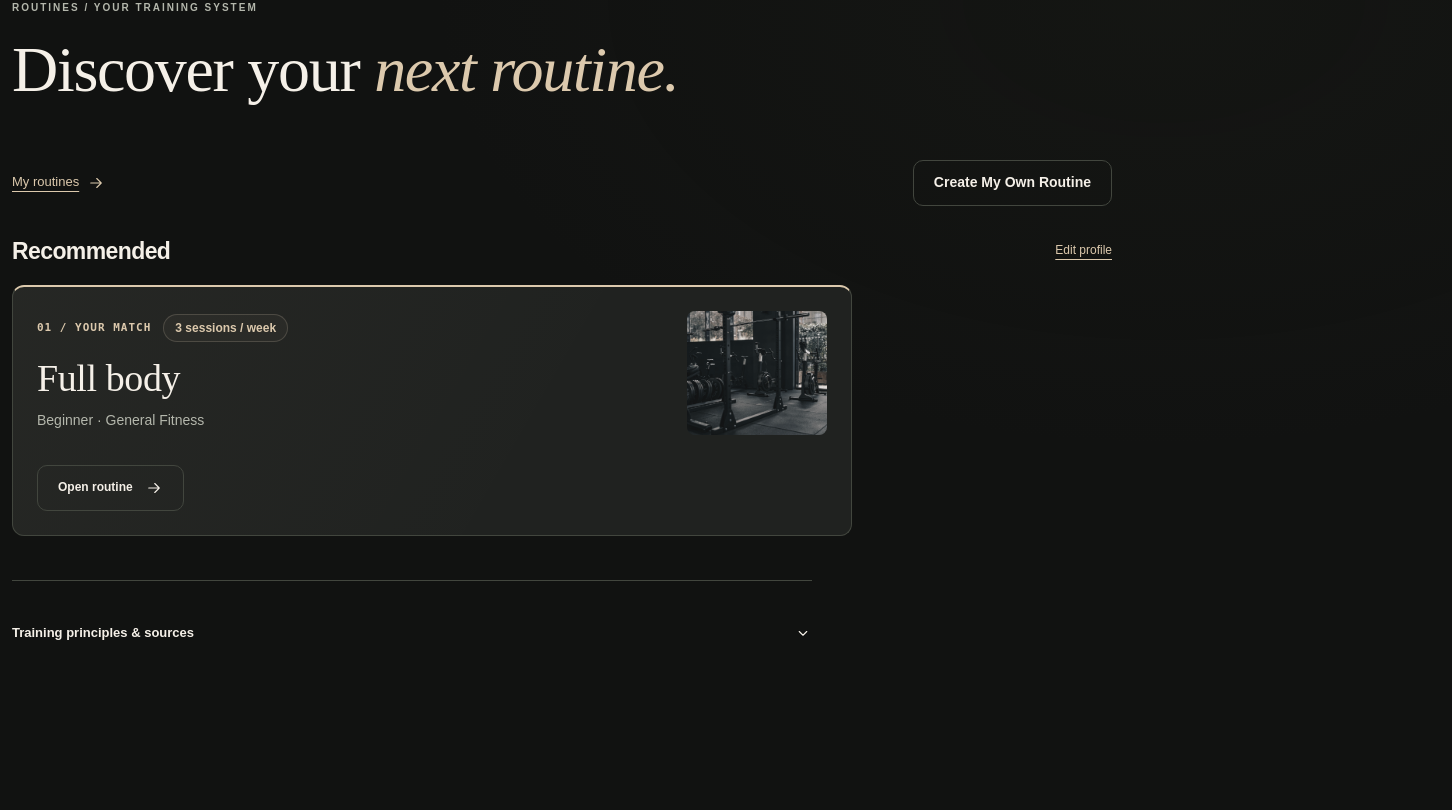
Use explicitly saves targets-unset plan, reloads and reports server-confirmed success
The width and height of the screenshot is (1452, 810).
Click the button "Open routine".
click(110, 488)  # box [37,465,184,511]
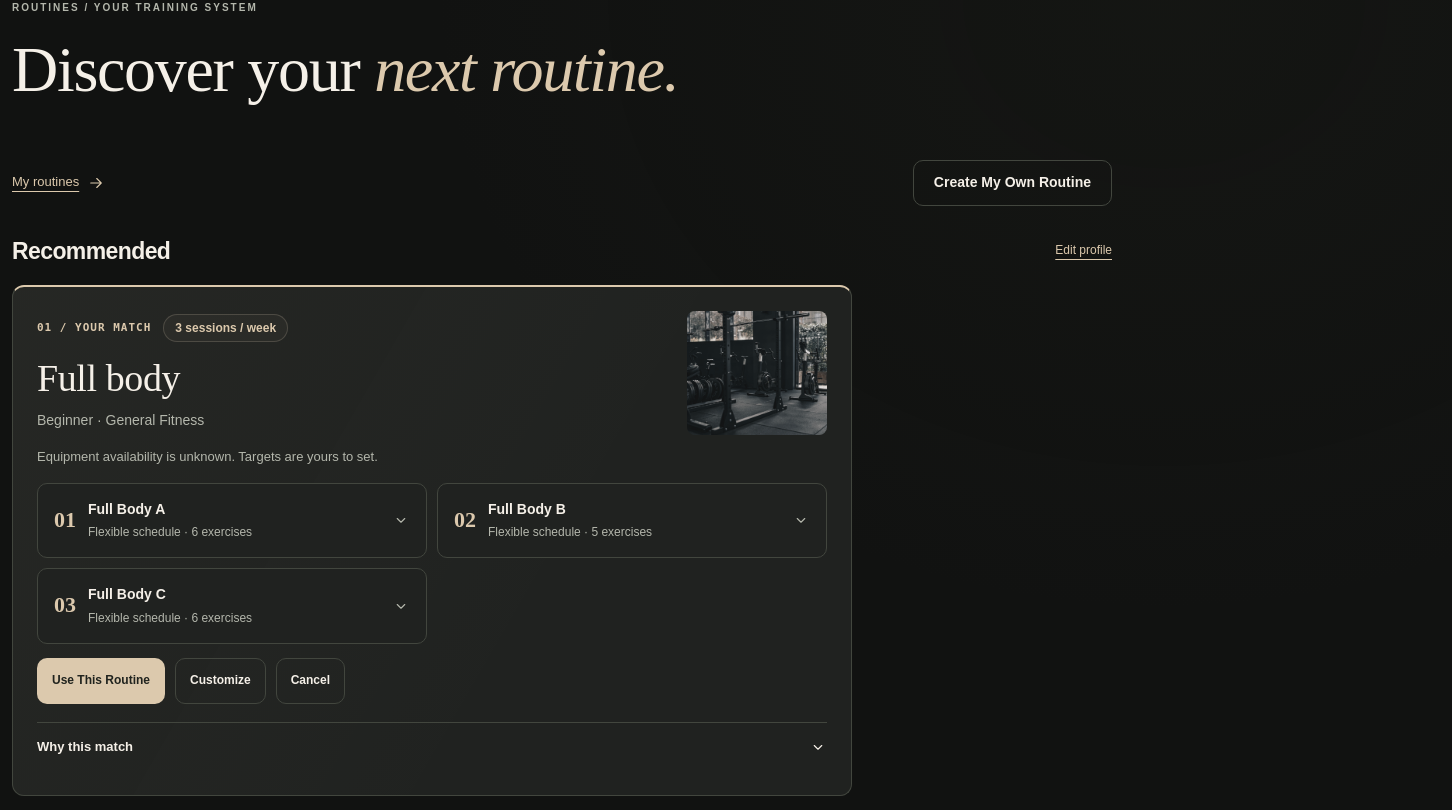
Click the button "Use This Routine".
click(101, 681)  # box [37,658,165,704]
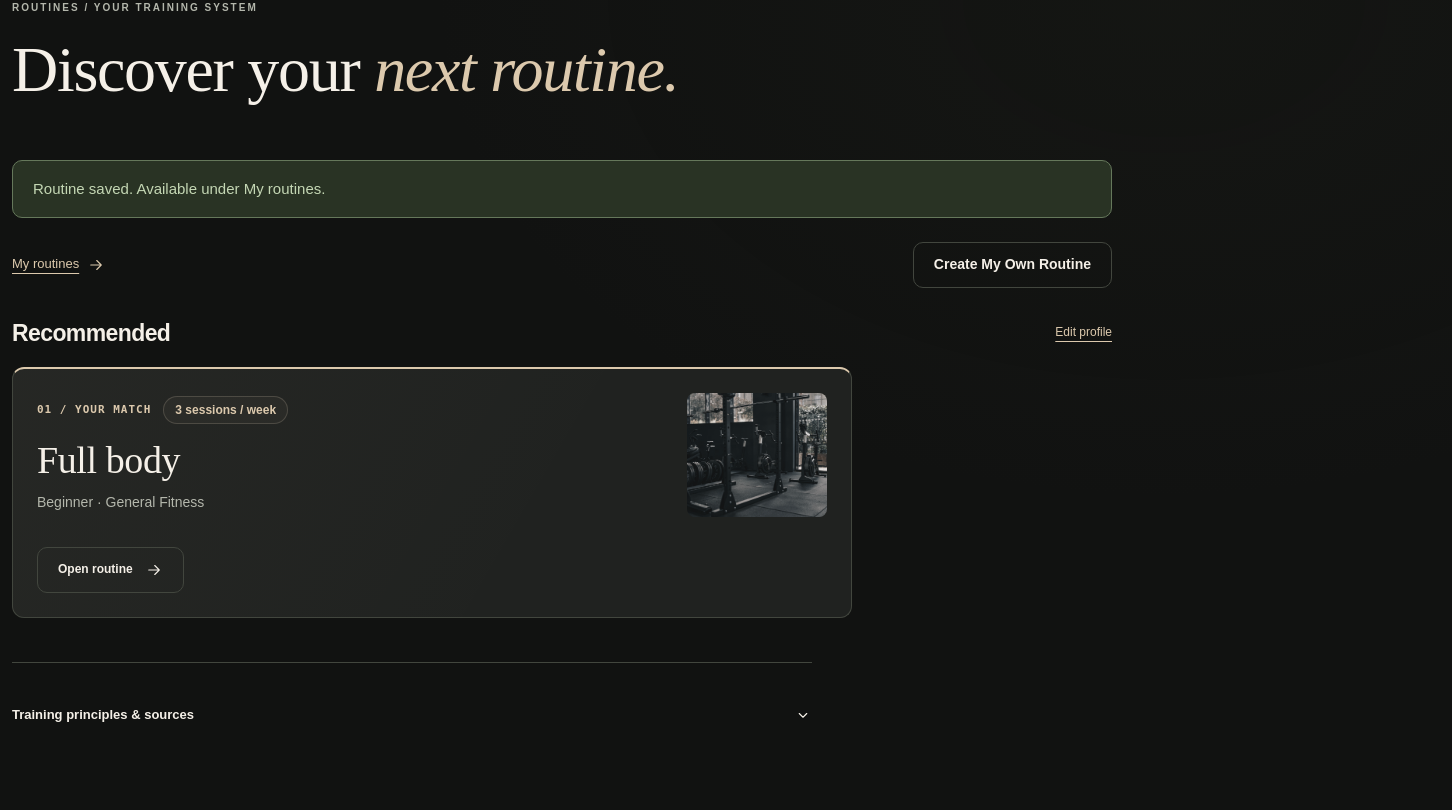
Expected: the heading "My training plan" is not shown
Now the message shows "Available under My routines", box [33,180,325,196]
Click the link "My routines".
click(59, 264)  # box [12,254,105,275]
(page scrolled)
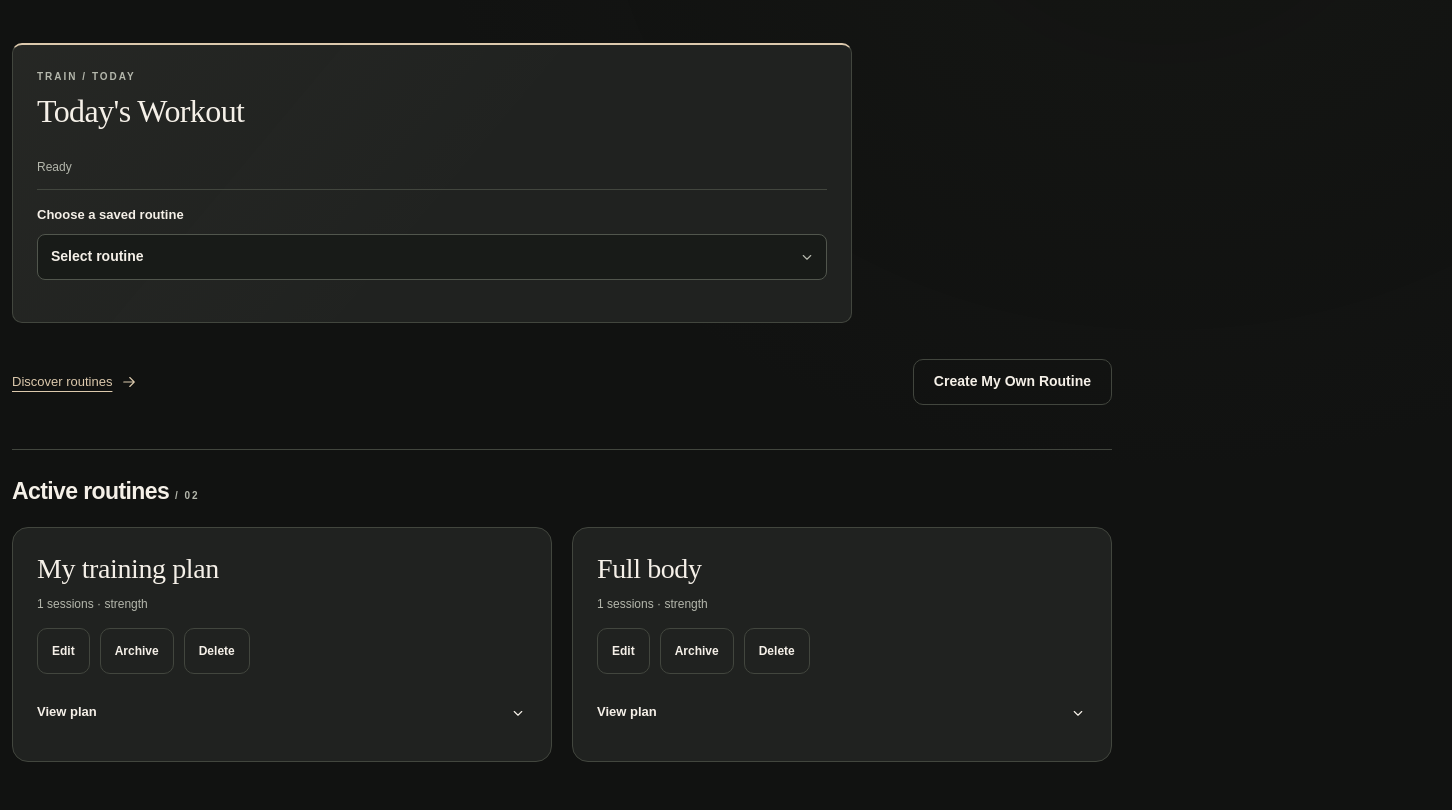
Expected: the heading "Full body" is shown, [597,553,702,584]
Now the heading "My training plan" is shown, box [37,553,219,584]
Now the button "Open routine" is gone
